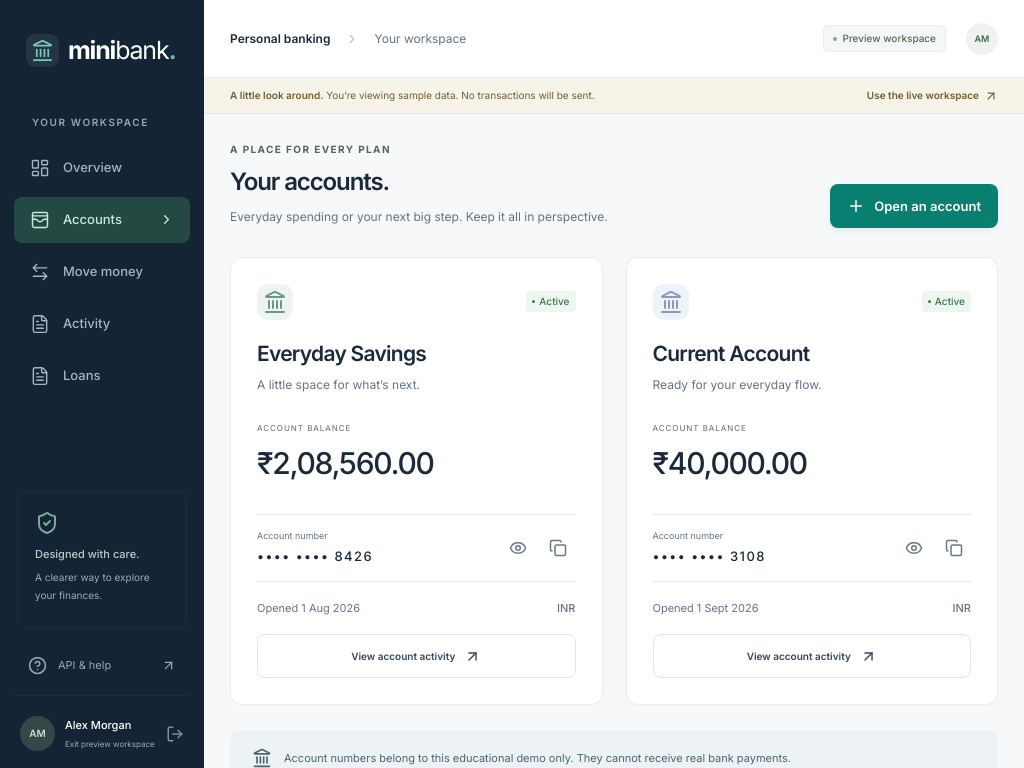
Test: does not create an account from the preview dialog
Click the button "Open an account".
click(914, 206)  # box [830,184,998,228]
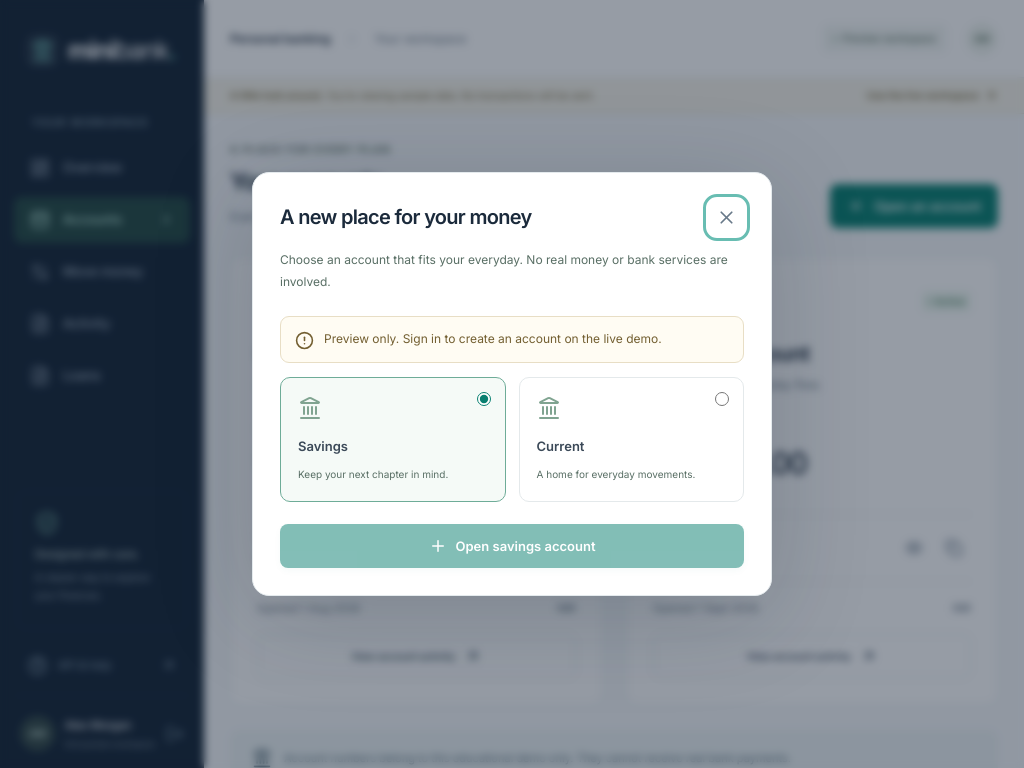
Expected: the dialog is shown, [252,172,772,596]
Expected: the button "Open savings account" is disabled, [280,524,744,568]
